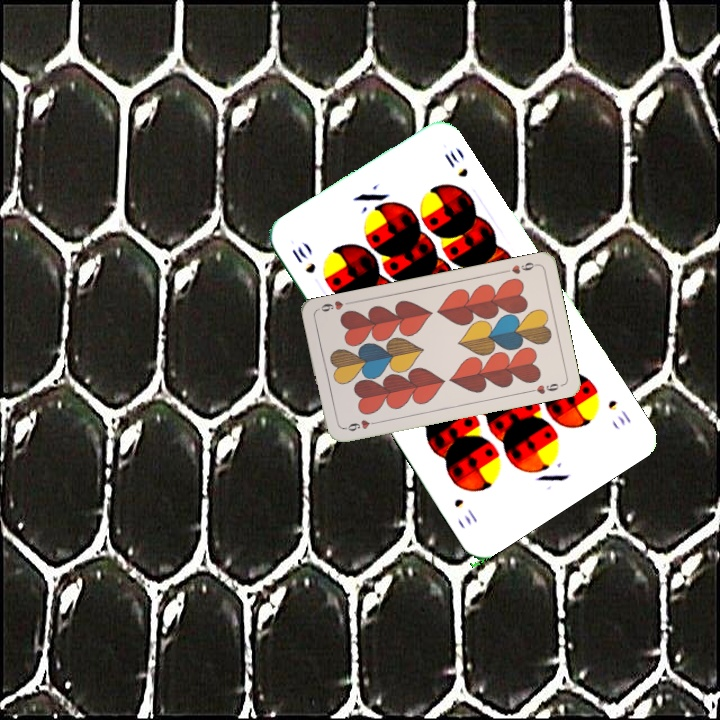H9: (500, 258, 540, 277), (339, 416, 380, 434)
S10: (287, 242, 319, 276), (603, 395, 634, 429)
